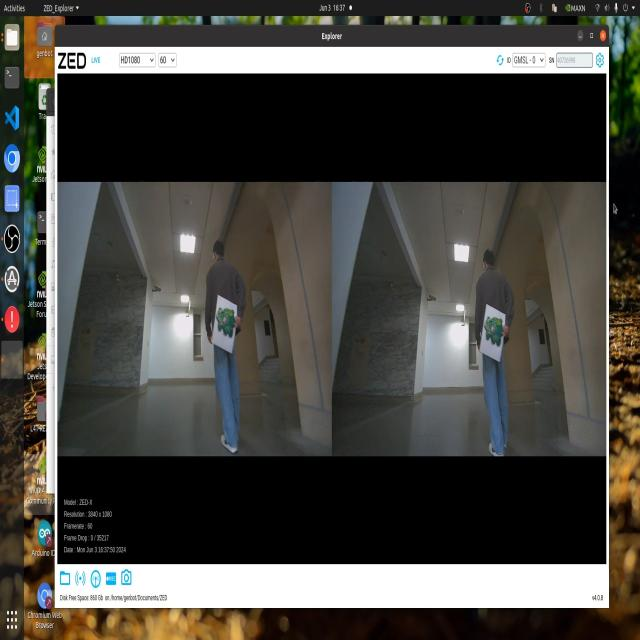green: (475, 311, 509, 352), (216, 295, 238, 338)
